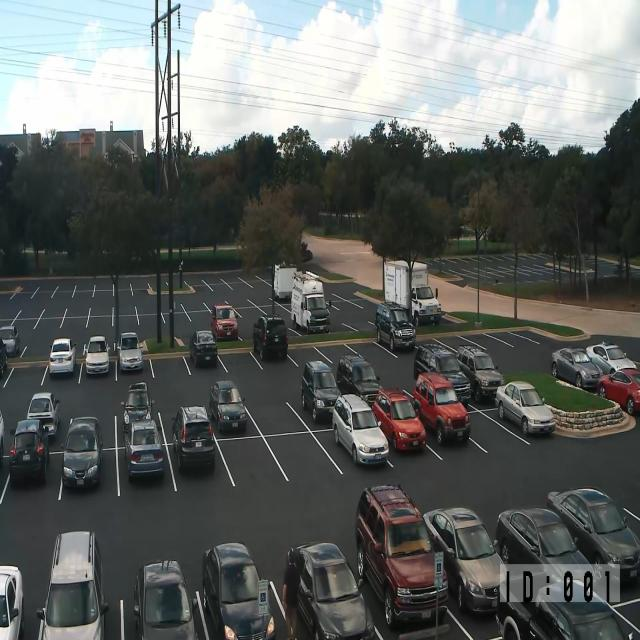car: (354, 484, 448, 630), (496, 572, 639, 640), (494, 507, 594, 604), (423, 506, 506, 616), (546, 486, 640, 583), (287, 541, 375, 639), (36, 530, 109, 639), (202, 542, 276, 640), (133, 559, 197, 639), (413, 372, 471, 446), (529, 600, 635, 640), (332, 393, 389, 466), (413, 342, 471, 409), (372, 388, 427, 452), (495, 381, 556, 436), (60, 416, 103, 490), (172, 405, 216, 472), (456, 344, 504, 403), (9, 418, 49, 483), (336, 353, 382, 408), (301, 360, 341, 423), (124, 418, 164, 480), (550, 346, 602, 391), (596, 368, 640, 415), (375, 302, 416, 352), (209, 380, 247, 432), (0, 564, 24, 640), (121, 381, 154, 433), (252, 314, 288, 361), (586, 342, 637, 374), (26, 392, 60, 438), (411, 284, 441, 326), (116, 331, 144, 372), (83, 335, 110, 375), (189, 329, 217, 367), (49, 337, 76, 375), (211, 303, 238, 341), (0, 324, 20, 356), (0, 337, 7, 378), (0, 409, 4, 467)
